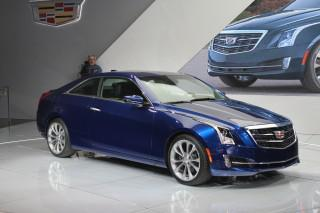cadillac: (271, 127, 291, 142)
